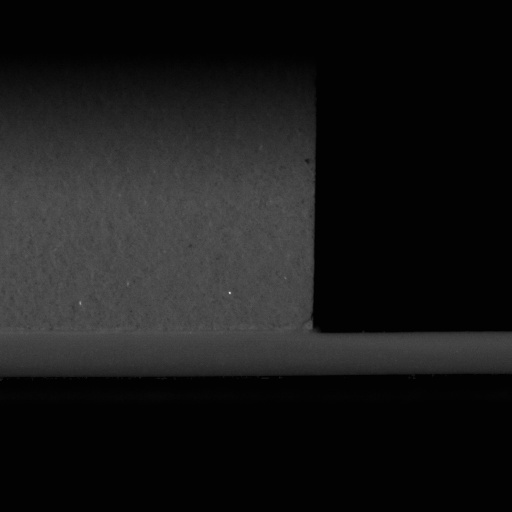changdai: (312, 329, 511, 380)
